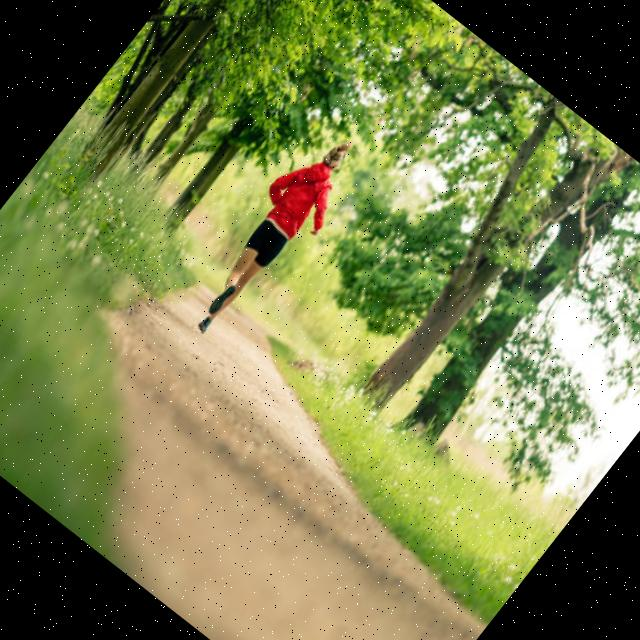Person: (173, 128, 367, 350)
